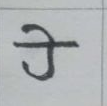e_matra: (22, 23, 58, 42)
